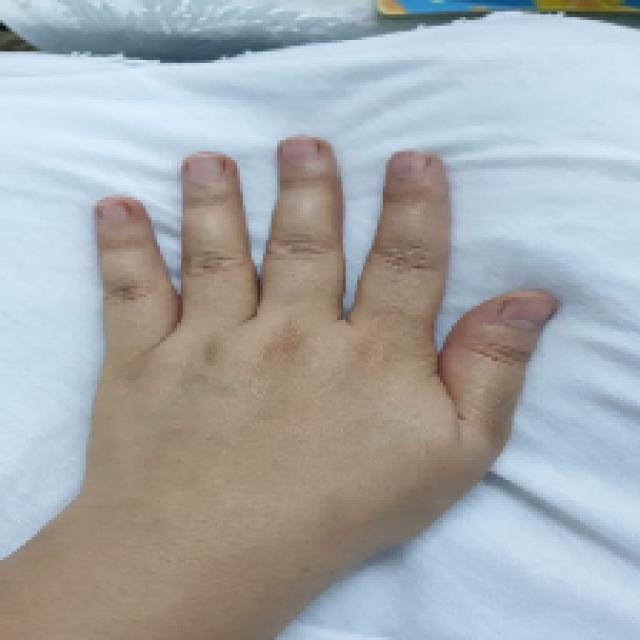Nail: (501, 291, 558, 330), (186, 152, 224, 181), (389, 151, 426, 179), (281, 136, 318, 160), (103, 204, 126, 225)
